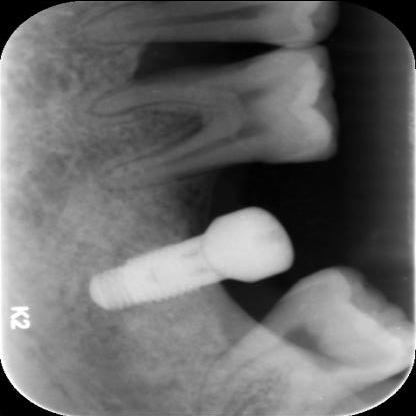Bego: (64, 195, 312, 328)
